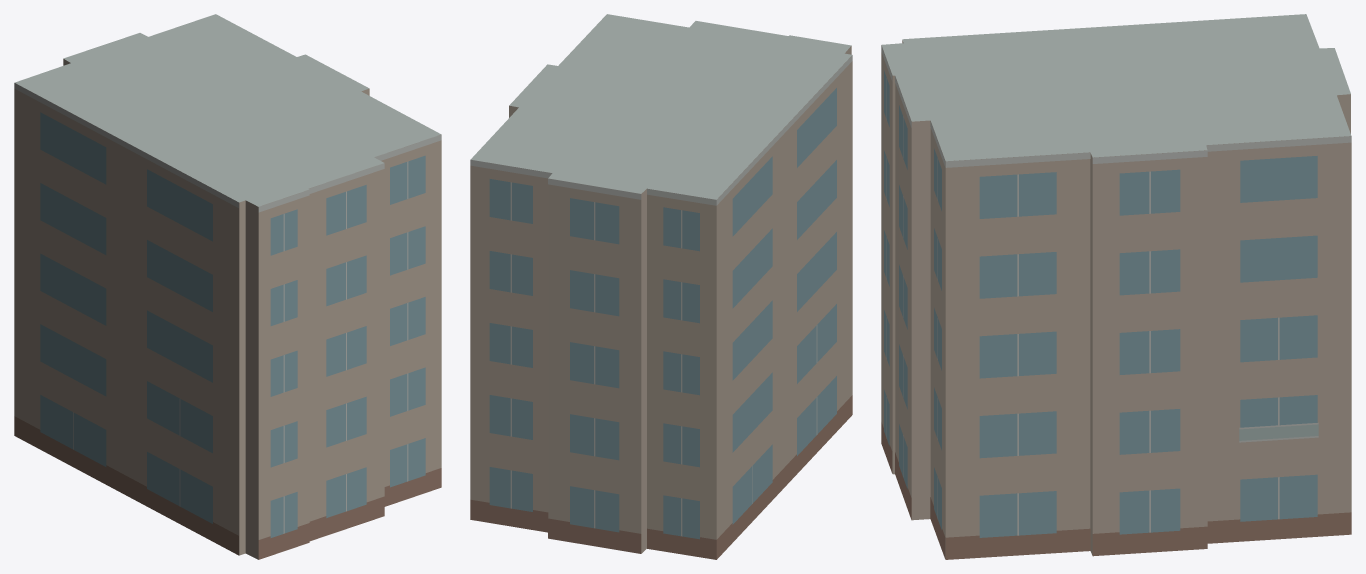
File: survey-upis-32837529.glb
3 renders of one model, left to right at view 1: azimuth 30°, elevation 25°; view 2: azimuth 150°, elevation 25°; view 3: azimuth 270°, elevation 25°, orthographic. The views are drawn at different scales.
Parts seen in each view (by area): view 1: survey-upis-32837529.tmp; view 2: survey-upis-32837529.tmp; view 3: survey-upis-32837529.tmp.
Part boxes in pixels (bbox=[...]): survey-upis-32837529.tmp: bbox=[14, 14, 441, 559]; survey-upis-32837529.tmp: bbox=[470, 14, 852, 559]; survey-upis-32837529.tmp: bbox=[881, 14, 1351, 559].
Size of the model in its own units: 11.66 by 14.7 by 15.72.
